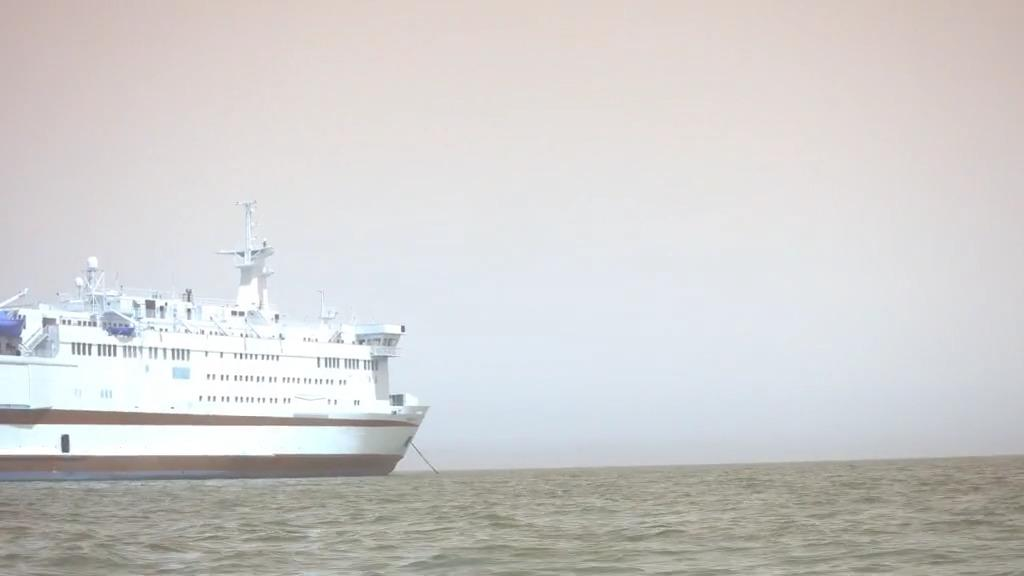PassengerShip: (0, 188, 436, 497)
